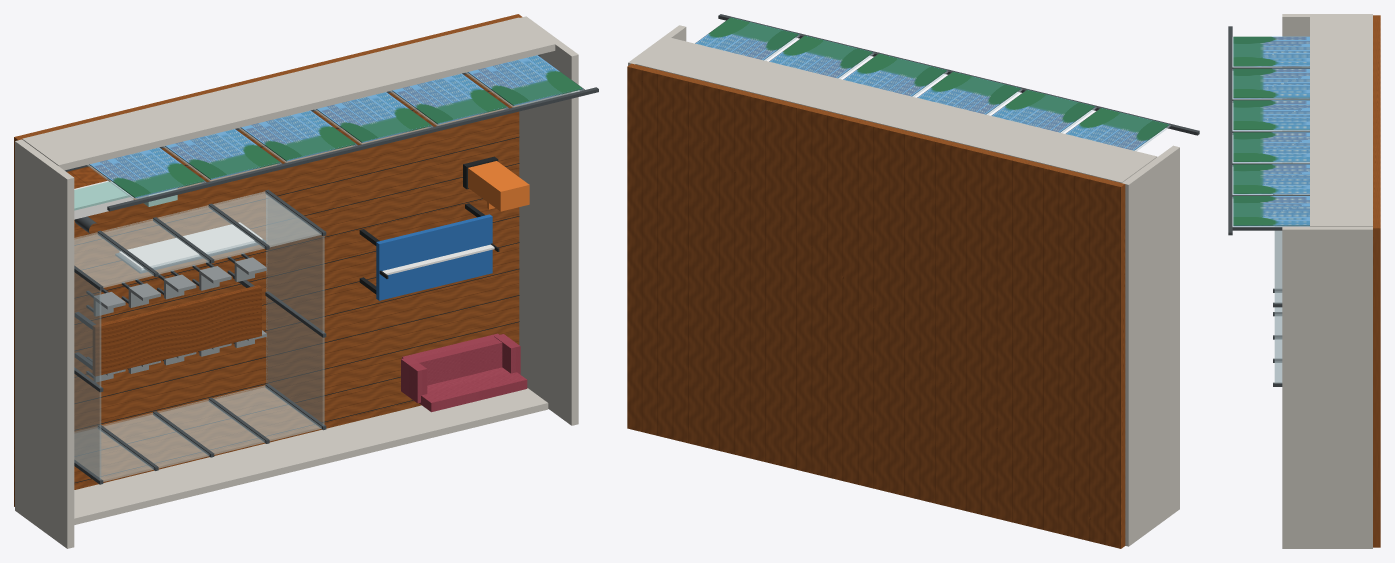
The model's file is office_diorama.glb.
3 views of the same model, side by side, from view 1: azimuth 30°, elevation 25°; view 2: azimuth 150°, elevation 25°; view 3: azimuth 270°, elevation 25° (orthographic). The views are drawn at different scales.
Visible parts, largest first — view 1: Floor base, Meeting glass front/back (×2), Left perimeter wall, Back wall below windows, Right perimeter wall, Meeting glass side (×2), Front low wall, Conference tableTop, Ping pong tableTop, City window view 1, City window view 6, City window view 3 (+10 smaller); view 2: Floor base, Left perimeter wall, Back wall below windows, City window view 5, City window view 2, City window view 4, City window view 6, City window view 1, City window view 3, Window top frame; view 3: Right perimeter wall, Back wall below windows, Floor base, City window view 1, City window view 2, City window view 3, City window view 4, City window view 5, City window view 6, Meeting glass side (×2), Window top frame, Left perimeter wall (+6 smaller).
Boxes of the visible parts, x1=… form: Floor base: x1=14, y1=14, x2=522, y2=506; Meeting glass front/back (×2): x1=74, y1=191, x2=321, y2=481; Left perimeter wall: x1=15, y1=139, x2=74, y2=548; Back wall below windows: x1=22, y1=17, x2=555, y2=170; Right perimeter wall: x1=519, y1=16, x2=578, y2=425; Meeting glass side (×2): x1=74, y1=195, x2=324, y2=479; Front low wall: x1=74, y1=388, x2=548, y2=524; Conference tableTop: x1=92, y1=285, x2=261, y2=376; Ping pong tableTop: x1=376, y1=214, x2=492, y2=300; City window view 1: x1=89, y1=147, x2=204, y2=198; City window view 6: x1=467, y1=55, x2=582, y2=105; City window view 3: x1=240, y1=110, x2=355, y2=161; Floor base: x1=627, y1=63, x2=1125, y2=548; Left perimeter wall: x1=1122, y1=145, x2=1179, y2=546; Back wall below windows: x1=635, y1=38, x2=1157, y2=182; City window view 5: x1=769, y1=35, x2=872, y2=78; City window view 2: x1=992, y1=89, x2=1095, y2=132; City window view 4: x1=843, y1=53, x2=946, y2=96; City window view 6: x1=695, y1=17, x2=798, y2=60; City window view 1: x1=1066, y1=108, x2=1169, y2=150; City window view 3: x1=917, y1=71, x2=1020, y2=114; Window top frame: x1=718, y1=14, x2=1199, y2=135; Right perimeter wall: x1=1282, y1=226, x2=1372, y2=548; Back wall below windows: x1=1310, y1=16, x2=1372, y2=226; Floor base: x1=1373, y1=15, x2=1380, y2=547; City window view 1: x1=1233, y1=36, x2=1309, y2=66; City window view 2: x1=1233, y1=68, x2=1309, y2=98; City window view 3: x1=1233, y1=100, x2=1309, y2=130; City window view 4: x1=1233, y1=132, x2=1309, y2=162; City window view 5: x1=1233, y1=164, x2=1309, y2=194; City window view 6: x1=1233, y1=196, x2=1309, y2=226; Meeting glass side (×2): x1=1274, y1=226, x2=1282, y2=383; Window top frame: x1=1228, y1=26, x2=1232, y2=235; Left perimeter wall: x1=1282, y1=14, x2=1372, y2=99.
Bounding box in the file's own units: 20.28 × 14.05 × 6.04.
Materials: 14 (5 with a texture image).
